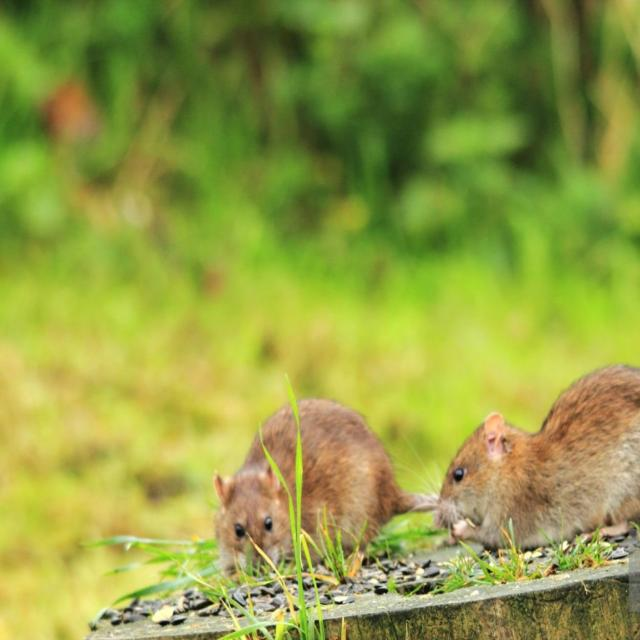rat: (434, 366, 639, 539), (212, 401, 377, 565)
